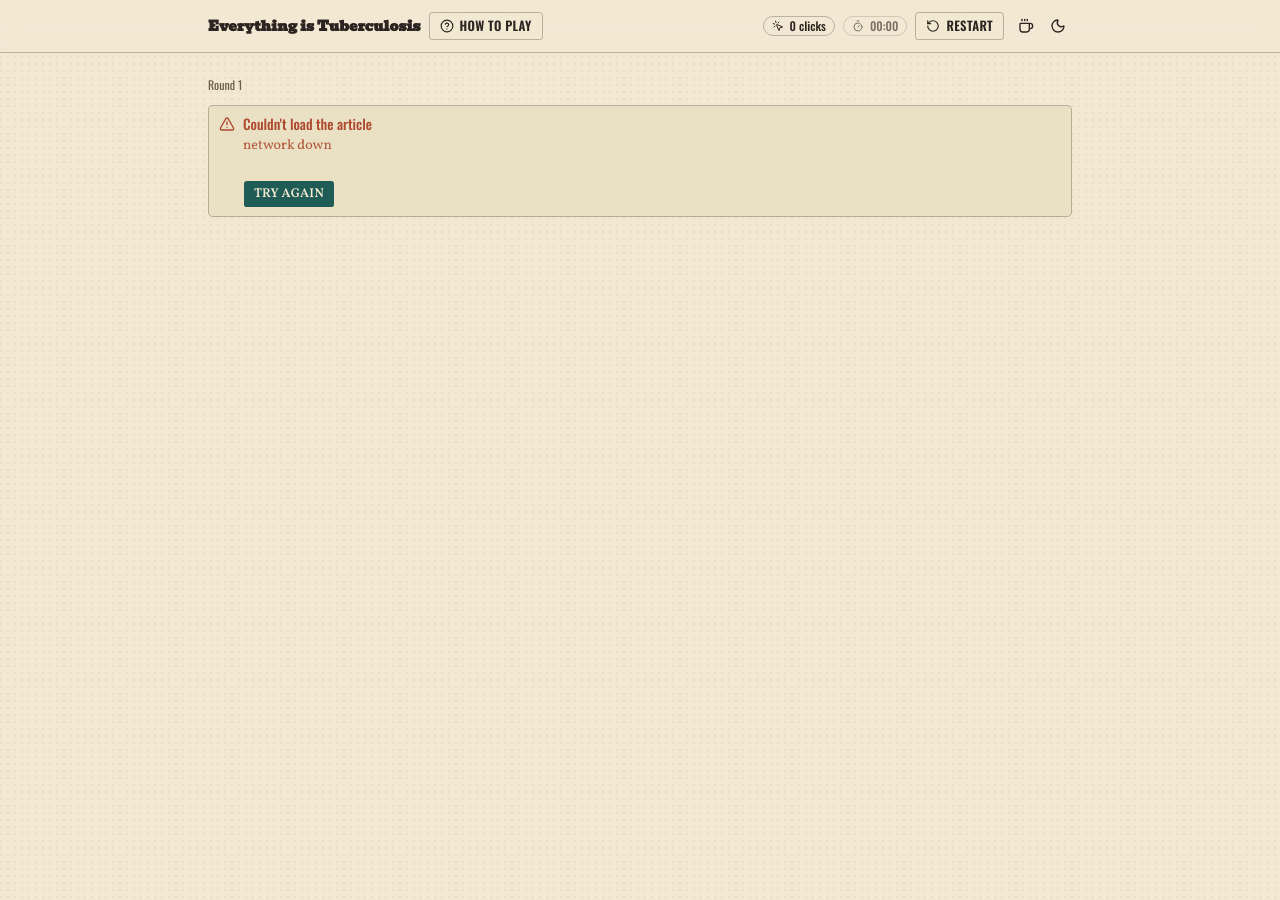
Test case: PartyRoom › retries loading the starting article after a failure
Click the button "Try again" at [289, 194], box left=243, top=180, right=335, bottom=208
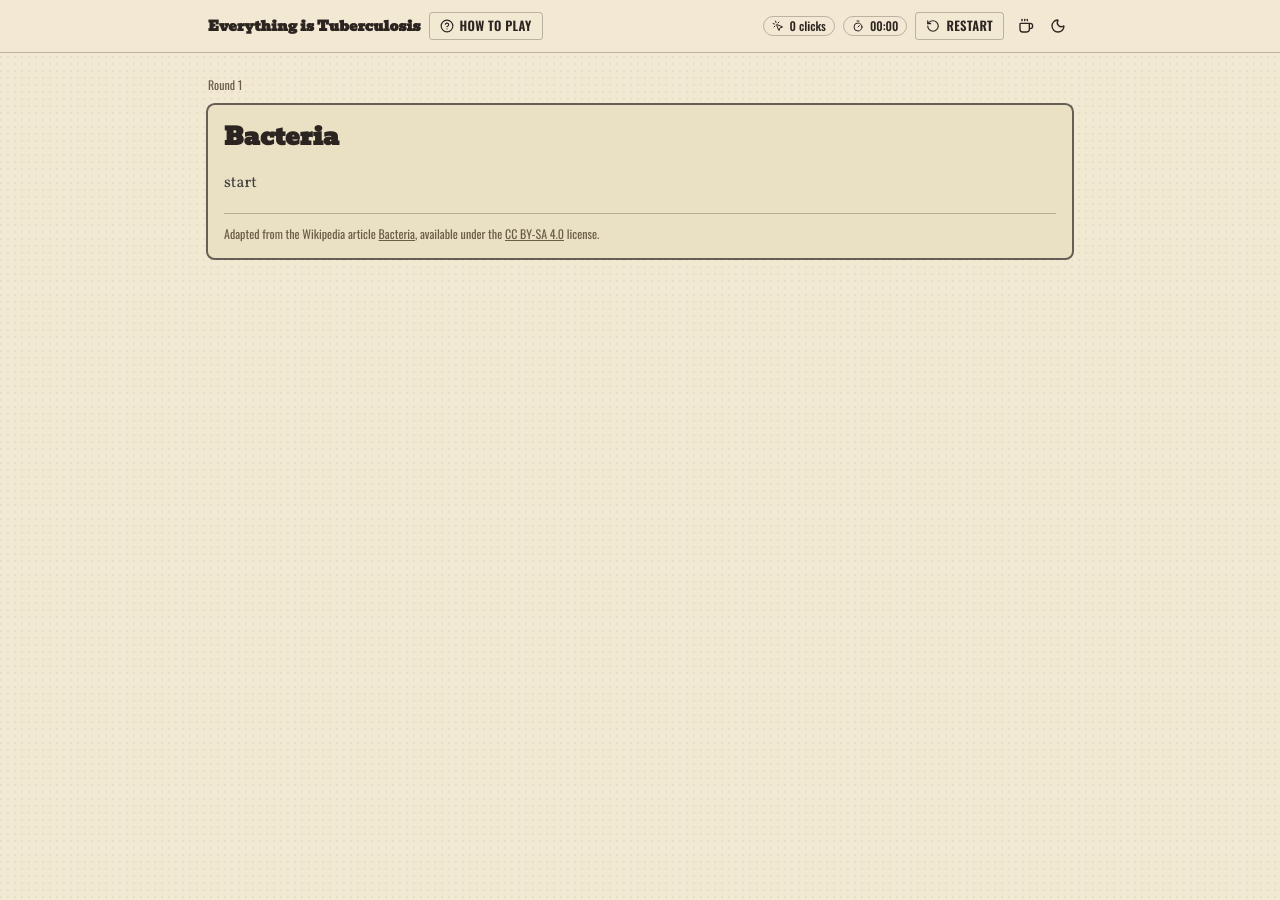
expect the heading "Bacteria" is shown: met, box left=224, top=117, right=339, bottom=156
